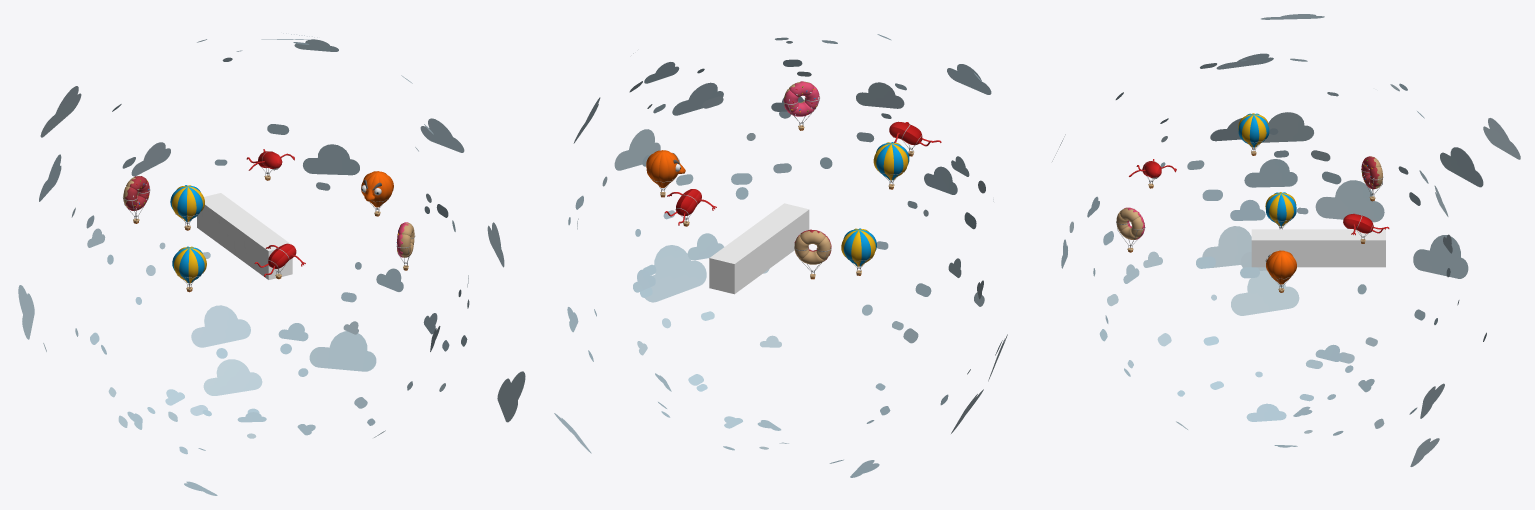
The model's file is FastRace-v4.6.glb.
3 views of the same model, side by side, from view 1: azimuth 30°, elevation 25°; view 2: azimuth 150°, elevation 25°; view 3: azimuth 270°, elevation 25° (orthographic). The views are drawn at different scales.
Parts seen in each view (by area): view 1: WorldBox, ID3421, ID3431, ID3391, ID3591, ID5941, ID5121, ID3461, ID4831, ID4651, ID3731, ID3671 (+2 smaller); view 2: WorldBox, ID3461, ID5121, ID5941, ID3621, ID4651, ID5681, ID4831, ID3661, ID3721, ID3691, ID3531 (+3 smaller); view 3: WorldBox, ID3451, ID3551, ID3481, ID3501, ID3651, ID3601, ID3641, ID5121, ID5941, ID4831, ID5681 (+3 smaller).
Boxes of the visible parts, <box> form: WorldBox: <box>197,193,292,279</box>; ID3421: <box>309,331,376,371</box>; ID3431: <box>191,305,250,347</box>; ID3391: <box>203,359,262,395</box>; ID3591: <box>303,144,359,175</box>; ID5941: <box>172,246,206,283</box>; ID5121: <box>170,185,204,221</box>; ID3461: <box>497,371,525,422</box>; ID4831: <box>361,171,393,207</box>; ID4651: <box>123,176,149,210</box>; ID3731: <box>420,118,464,152</box>; ID3671: <box>40,86,81,137</box>; WorldBox: <box>709,203,809,294</box>; ID3461: <box>645,245,706,302</box>; ID5121: <box>873,142,909,180</box>; ID5941: <box>841,228,876,266</box>; ID3621: <box>614,129,660,170</box>; ID4651: <box>794,229,831,264</box>; ID5681: <box>783,81,819,116</box>; ID4831: <box>646,150,685,187</box>; ID3661: <box>856,82,904,108</box>; ID3721: <box>672,82,723,115</box>; ID3691: <box>947,64,991,94</box>; ID3531: <box>687,233,723,260</box>; WorldBox: <box>1251,229,1385,267</box>; ID3451: <box>1231,270,1299,315</box>; ID3551: <box>1315,180,1384,222</box>; ID3481: <box>1413,235,1468,278</box>; ID3501: <box>1202,226,1251,267</box>; ID3651: <box>1262,112,1313,142</box>; ID3601: <box>1244,159,1297,187</box>; ID3641: <box>1440,147,1483,187</box>; ID5121: <box>1238,113,1269,147</box>; ID5941: <box>1265,192,1296,226</box>; ID4831: <box>1266,250,1296,284</box>; ID5681: <box>1116,207,1144,239</box>.
Size of what is drawn, in the model's own units: 1862 by 1925 by 2081.
Materials: 8 (7 with a texture image).
